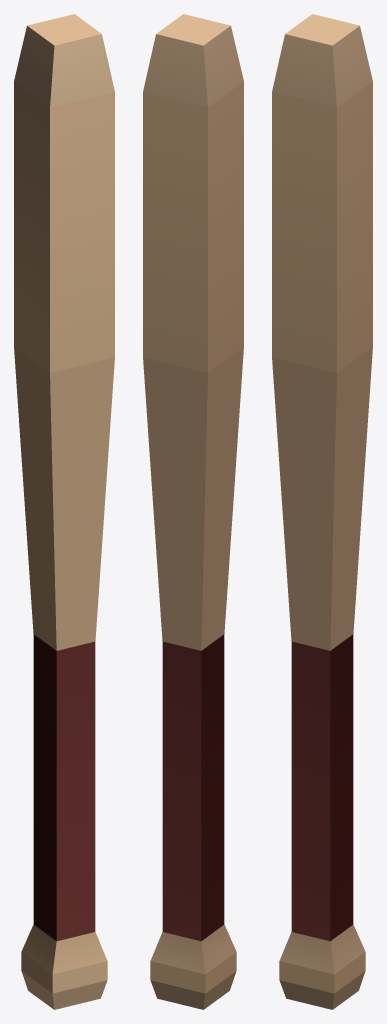
Rendered from weapon_baseballbat.FBX.
3 renders of one model, left to right at view 1: azimuth 30°, elevation 25°; view 2: azimuth 150°, elevation 25°; view 3: azimuth 330°, elevation 25°, orthographic.
Visible parts, largest first — view 1: weapon_baseballbat; view 2: weapon_baseballbat; view 3: weapon_baseballbat.
Boxes of the visible parts, box(x1,y1,x2,y2) form: weapon_baseballbat: box(14, 14, 114, 1009); weapon_baseballbat: box(143, 14, 243, 1009); weapon_baseballbat: box(272, 14, 372, 1009).
Bounding box in the file's own units: 9.15 × 130 × 8.78.
